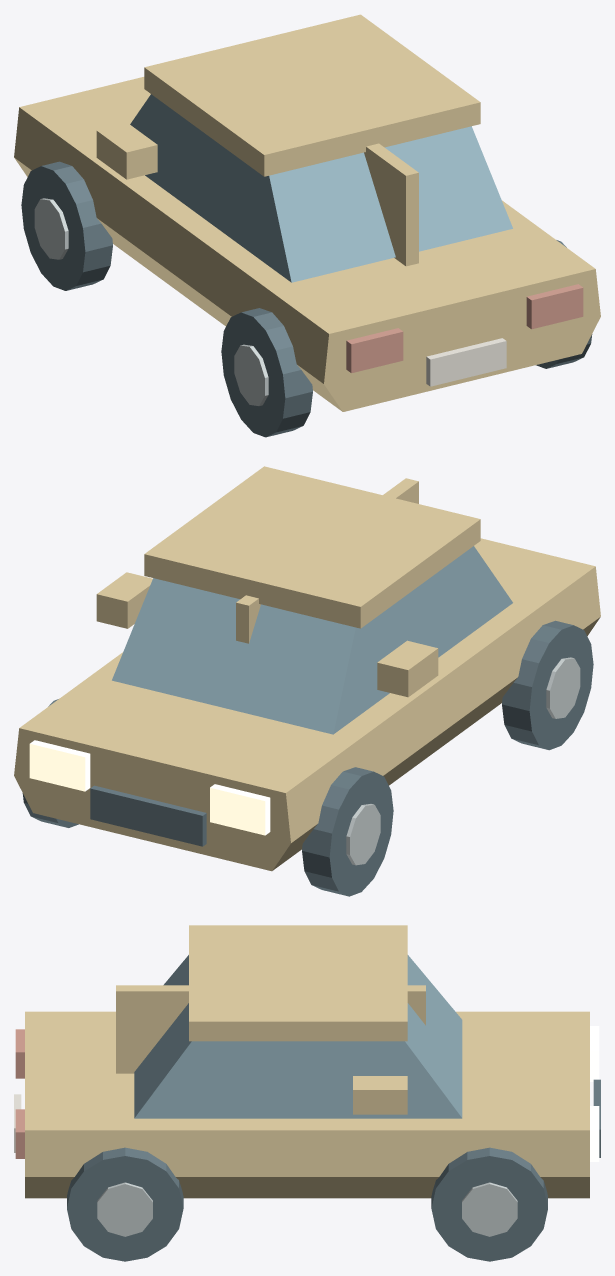
Rendered from remaster_car_0.glb.
3 renders of one model, top to bottom at view 1: azimuth 30°, elevation 25°; view 2: azimuth 150°, elevation 25°; view 3: azimuth 270°, elevation 25°, orthographic. The views are drawn at different scales.
Visible parts, largest first — view 1: remaster_car_0 gold, remaster_car_0 glass, remaster_car_0 dark, remaster_car_0 red, remaster_car_0 metal, remaster_car_0 white; view 2: remaster_car_0 gold, remaster_car_0 glass, remaster_car_0 dark, remaster_car_0 warm, remaster_car_0 metal; view 3: remaster_car_0 gold, remaster_car_0 glass, remaster_car_0 dark, remaster_car_0 metal, remaster_car_0 warm, remaster_car_0 red.
Boxes of the visible parts, box(x1,y1,x2,y2) form: remaster_car_0 gold: box(14, 14, 600, 411); remaster_car_0 glass: box(130, 94, 512, 282); remaster_car_0 dark: box(21, 161, 592, 437); remaster_car_0 red: box(346, 284, 583, 373); remaster_car_0 metal: box(34, 198, 268, 405); remaster_car_0 white: box(426, 338, 506, 386); remaster_car_0 gold: box(14, 466, 600, 871); remaster_car_0 glass: box(112, 546, 512, 734); remaster_car_0 dark: box(22, 620, 593, 896); remaster_car_0 warm: box(29, 740, 270, 835); remaster_car_0 metal: box(346, 657, 580, 865); remaster_car_0 gold: box(25, 925, 589, 1198); remaster_car_0 glass: box(134, 955, 462, 1118); remaster_car_0 dark: box(67, 1079, 600, 1261); remaster_car_0 metal: box(97, 1182, 517, 1236); remaster_car_0 warm: box(590, 1026, 599, 1161); remaster_car_0 red: box(15, 1029, 24, 1158).
Size of the model in its own units: 1.82 by 1.33 by 3.22.
